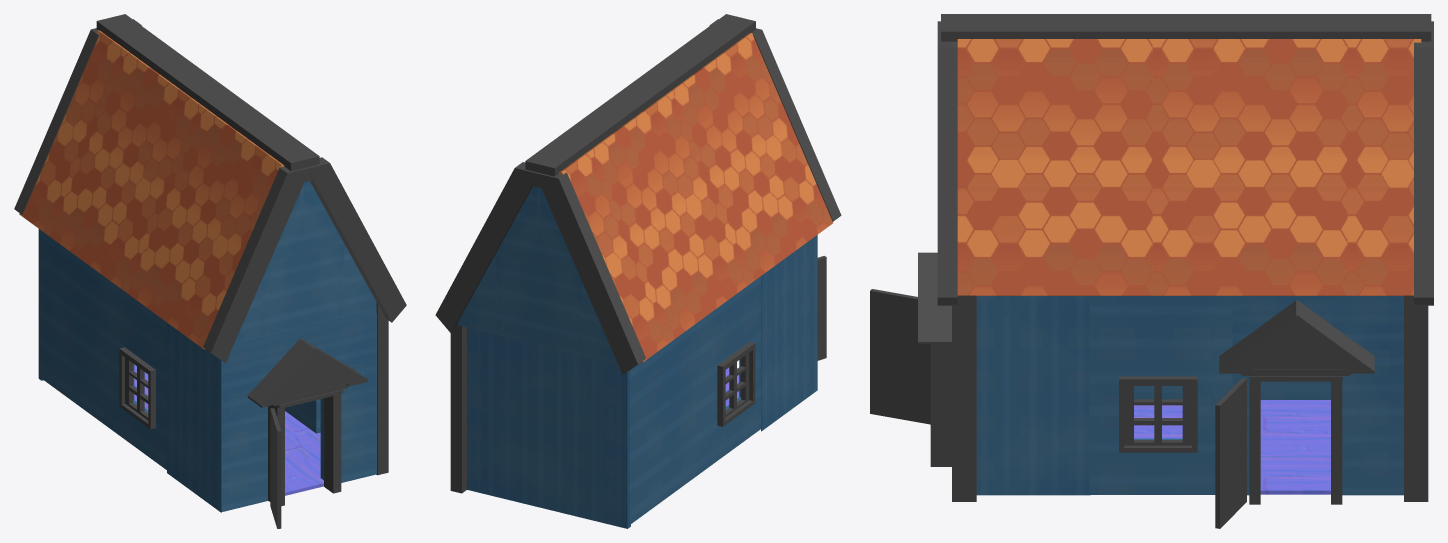
File: SmallHouse.fbx
3 views of the same model, side by side, from view 1: azimuth 30°, elevation 25°; view 2: azimuth 150°, elevation 25°; view 3: azimuth 270°, elevation 25° (orthographic). The views are drawn at different scales.
Visible parts, largest first — view 1: Plane.198; view 2: Plane.198; view 3: Plane.198.
Boxes of the visible parts, box(x1,y1,x2,y2) form: Plane.198: box(14, 14, 406, 528); Plane.198: box(435, 14, 841, 528); Plane.198: box(870, 14, 1433, 528).
Size of the model in its own units: 401 by 560 by 672.
